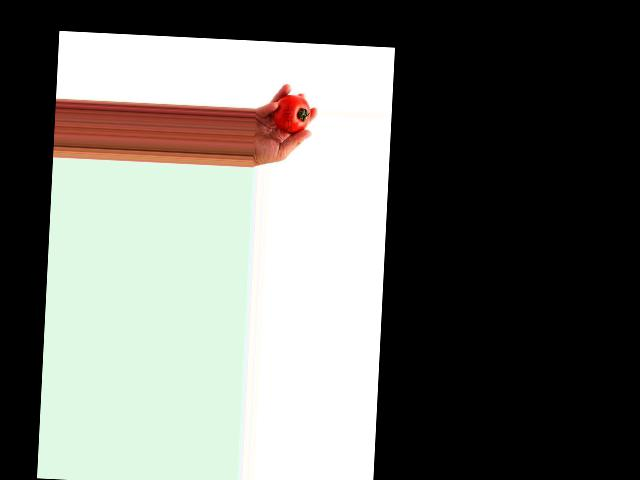tomato: (272, 93, 311, 134)
